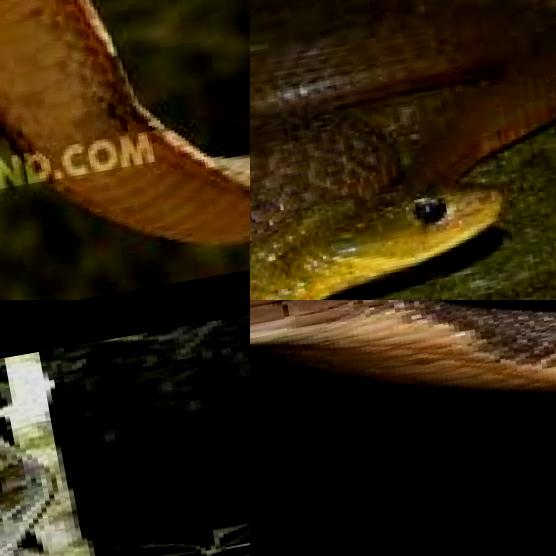snake: (250, 0, 556, 300), (0, 0, 250, 300), (250, 300, 556, 503), (0, 315, 250, 556)
